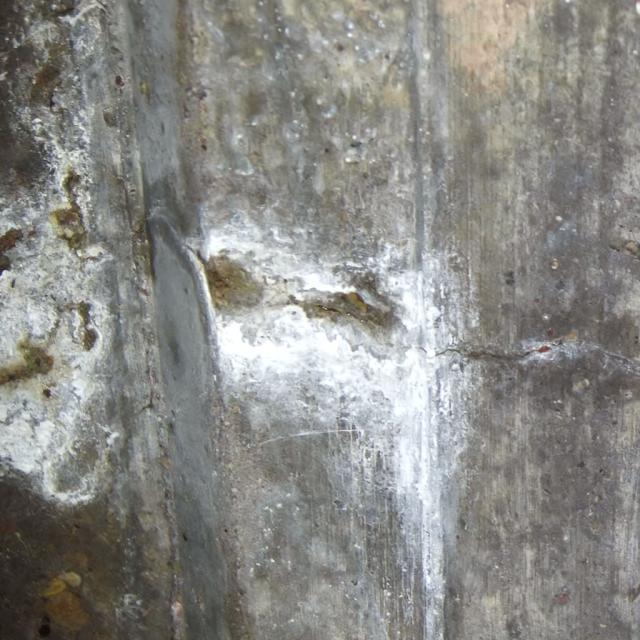D01: (194, 218, 477, 639)
